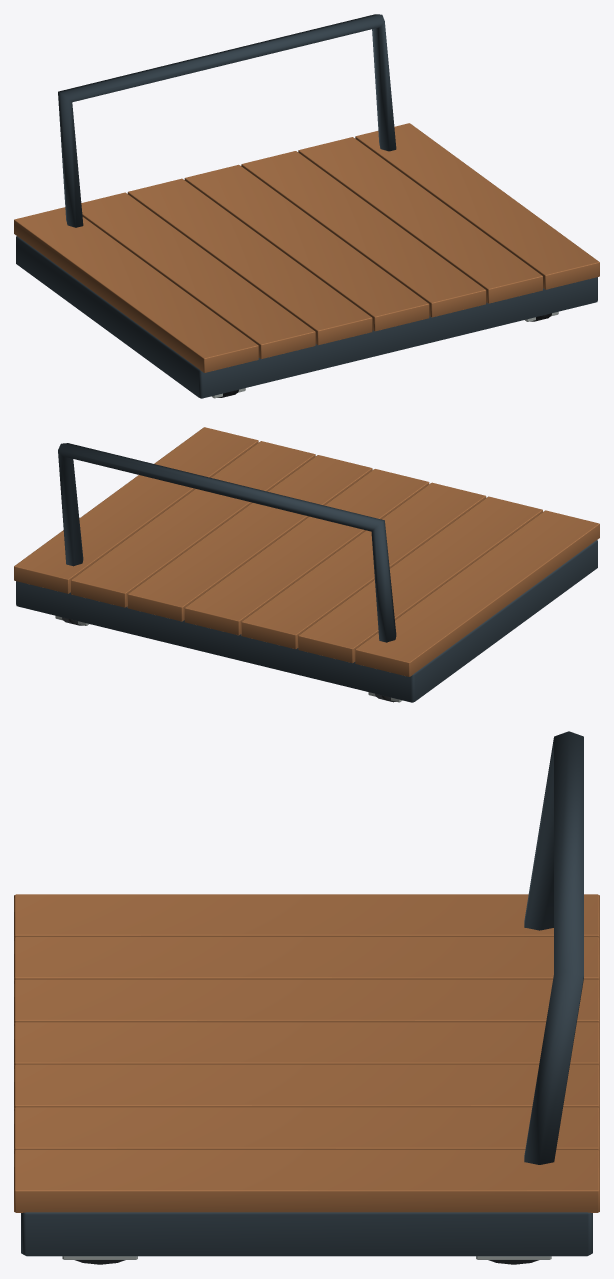
The model's file is S078_scenery_wagon_rebuilt.glb.
The picture shows the model from 3 angles, top to bottom: view 1: azimuth 30°, elevation 25°; view 2: azimuth 150°, elevation 25°; view 3: azimuth 270°, elevation 25°; orthographic projection. The views are drawn at different scales.
Parts seen in each view (by area): view 1: wood, shell; view 2: wood, shell; view 3: wood, shell.
Part boxes in pixels (x1,y1,x2,y2): wood: (14, 123, 599, 372); shell: (16, 14, 597, 398); wood: (14, 427, 599, 676); shell: (16, 443, 597, 702); wood: (14, 894, 599, 1212); shell: (21, 731, 592, 1256).
Bounding box in the file's own units: 2.4 × 1.09 × 1.99.
